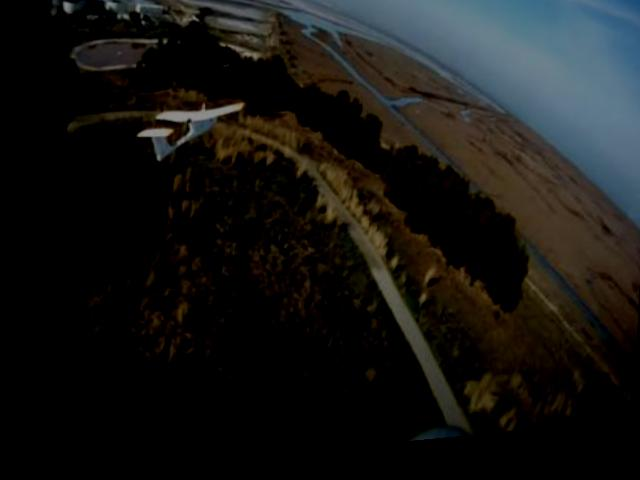uav: (130, 94, 249, 174)
